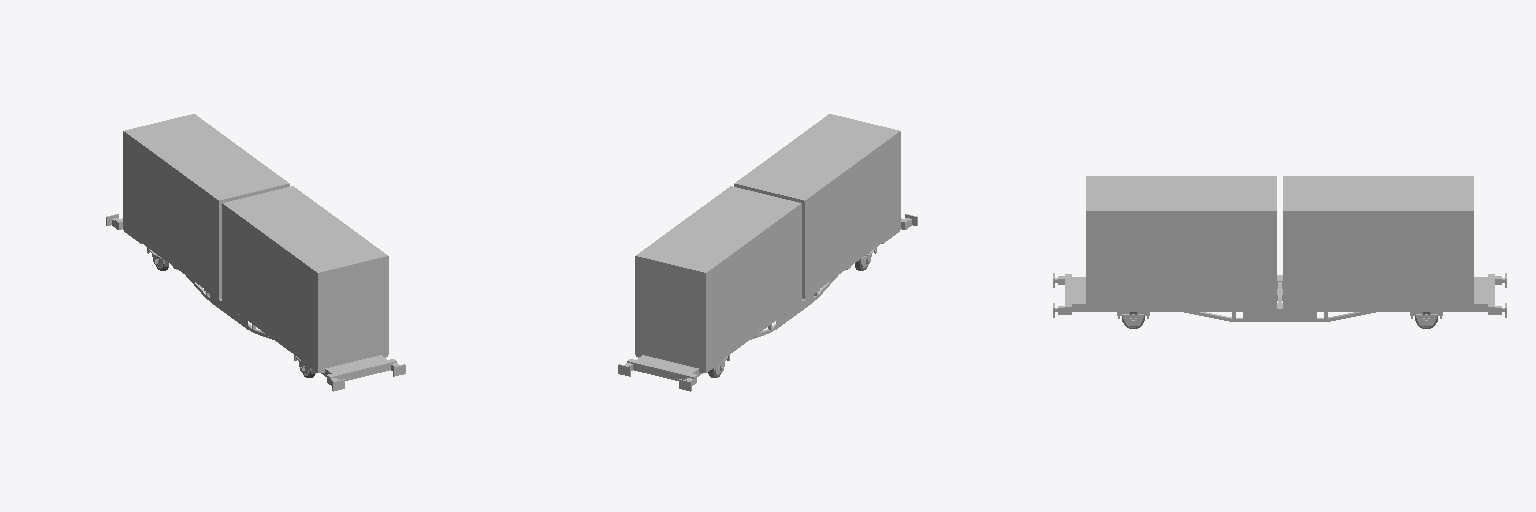
File: dlxtrains_industrial_wagons_container_type1_loaded2.obj
The picture shows the model from 3 angles: view 1: azimuth 30°, elevation 25°; view 2: azimuth 150°, elevation 25°; view 3: azimuth 270°, elevation 25°; orthographic projection.
Parts seen in each view (by area): view 1: dlxtrains_industrial_wagons_container_type1_loaded2; view 2: dlxtrains_industrial_wagons_container_type1_loaded2; view 3: dlxtrains_industrial_wagons_container_type1_loaded2.
Boxes of the visible parts, box(x1,y1,x2,y2) form: dlxtrains_industrial_wagons_container_type1_loaded2: box(106, 114, 405, 391); dlxtrains_industrial_wagons_container_type1_loaded2: box(618, 114, 917, 391); dlxtrains_industrial_wagons_container_type1_loaded2: box(1053, 176, 1506, 328).
Bounding box in the file's own units: 15.38 × 25.36 × 83.12.